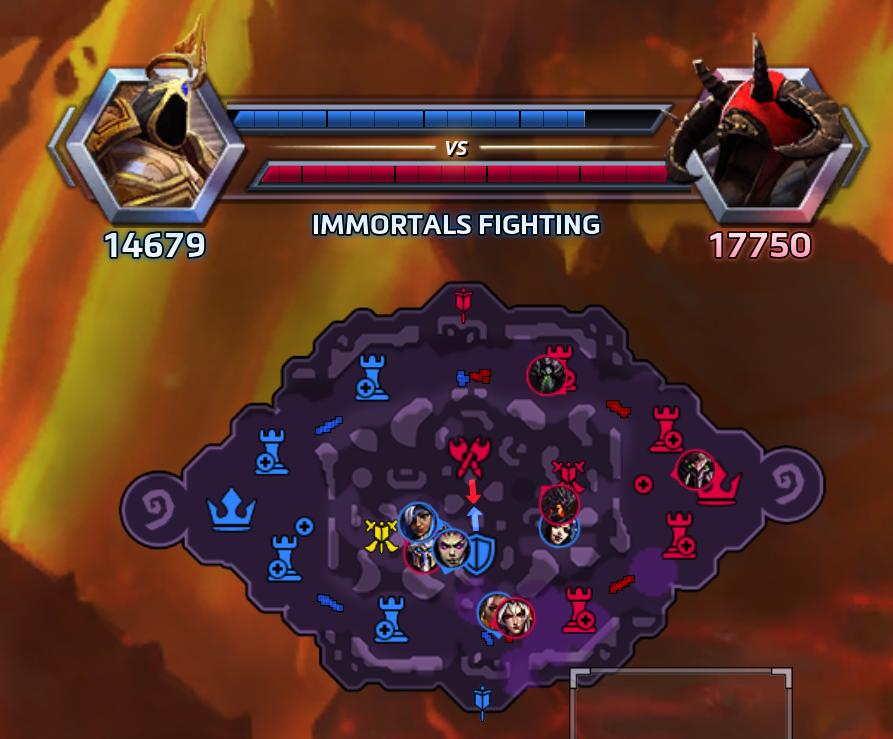blue player: (432, 525, 473, 573), (471, 591, 510, 634), (398, 500, 436, 543), (537, 512, 580, 545)
red player: (539, 483, 581, 527), (494, 596, 536, 639), (526, 354, 567, 395), (675, 449, 715, 490), (403, 536, 442, 575)
